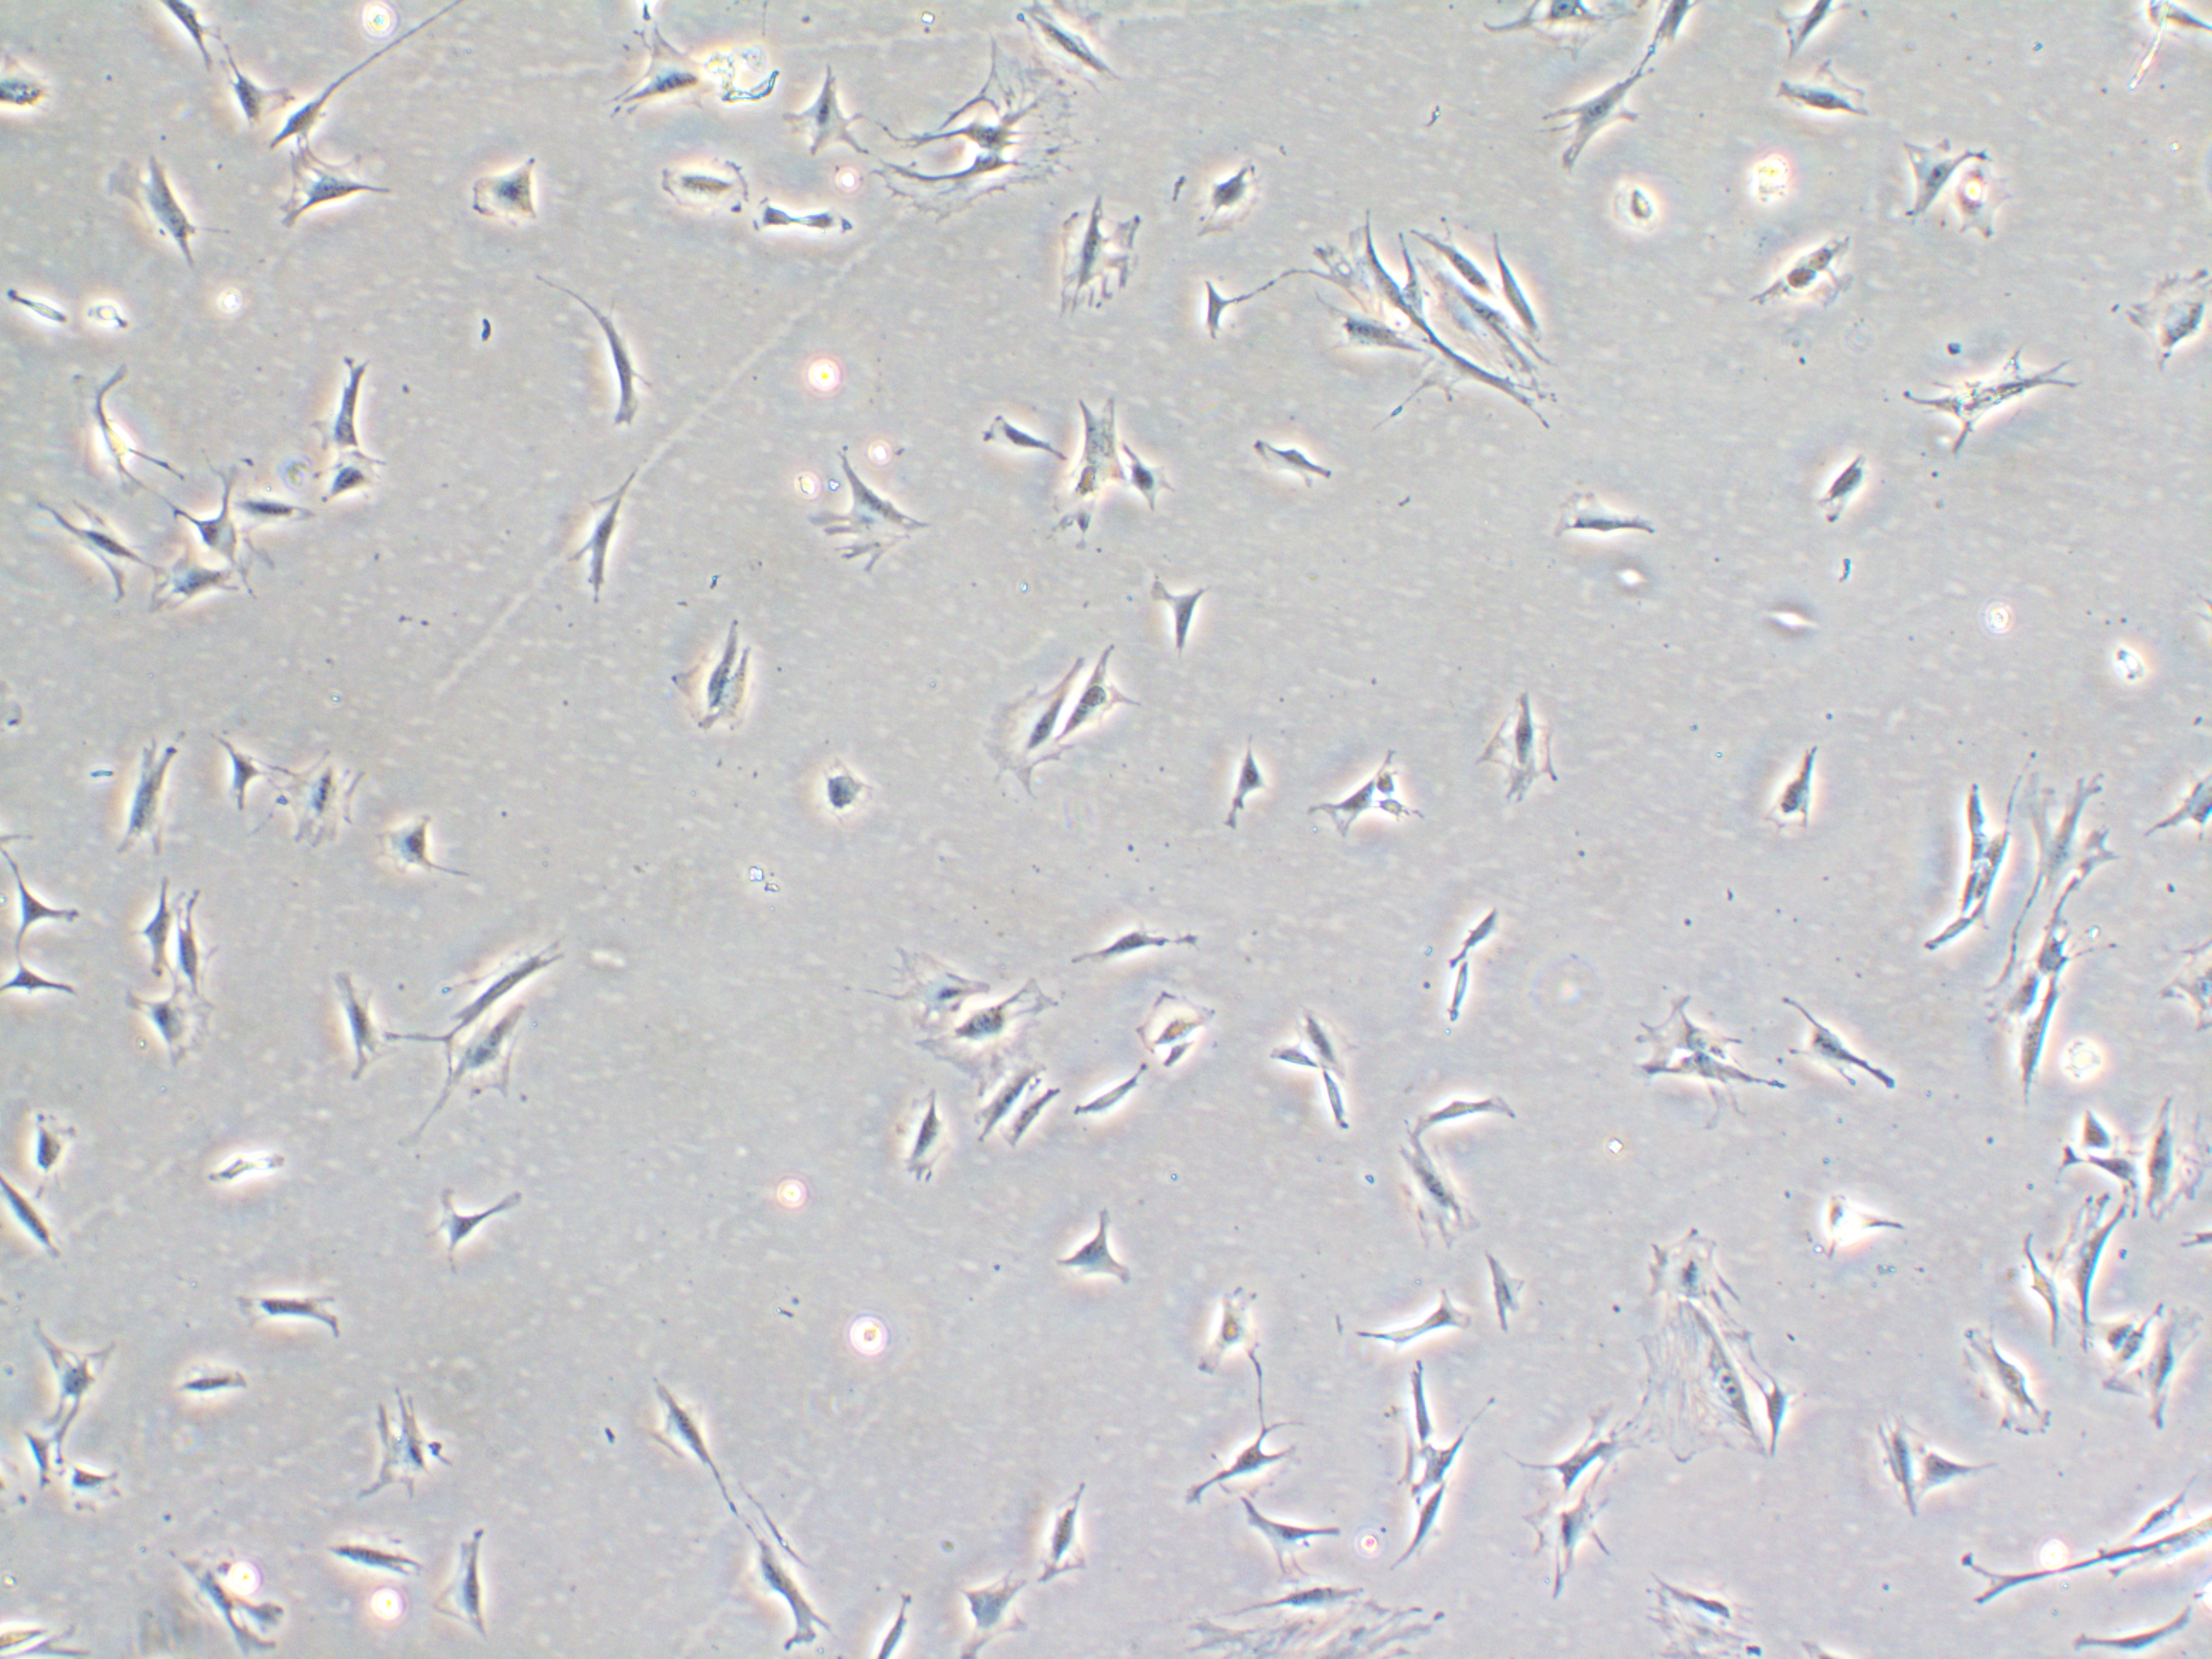small: (1198, 1272, 1270, 1389), (808, 741, 888, 843), (1601, 157, 1683, 256), (1113, 436, 1200, 526), (1062, 1047, 1157, 1131), (1440, 889, 1534, 971), (1211, 728, 1280, 829), (1172, 261, 1238, 350), (2094, 622, 2168, 697), (66, 277, 148, 343), (2054, 1021, 2111, 1094), (1449, 955, 1489, 1049), (1315, 1070, 1362, 1147), (1367, 742, 1418, 800), (1369, 800, 1423, 840)
spread: (864, 44, 1082, 227), (1609, 1290, 1780, 1502), (1169, 1582, 1479, 1659), (2012, 767, 2141, 939), (402, 995, 536, 1155), (1425, 265, 1587, 394), (799, 446, 937, 587), (920, 969, 1061, 1103), (1602, 1549, 1759, 1659), (1634, 1213, 1764, 1340), (1005, 0, 1157, 106), (1031, 193, 1146, 328), (2113, 1086, 2212, 1239), (108, 971, 228, 1073), (254, 755, 373, 856), (2111, 263, 2212, 375), (876, 945, 996, 1037)
